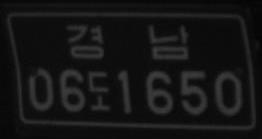0: (214, 71, 241, 116), (29, 66, 54, 113)
1: (114, 69, 137, 115)
5: (179, 69, 209, 116)
6: (145, 69, 174, 115), (58, 68, 86, 114)
경남_D: (65, 21, 190, 60)
도: (87, 70, 110, 112)
